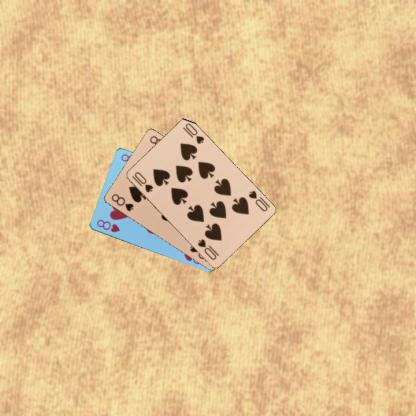10s: (129, 169, 154, 194), (246, 188, 268, 212)
8h: (94, 217, 121, 234)
8s: (108, 191, 134, 213)
